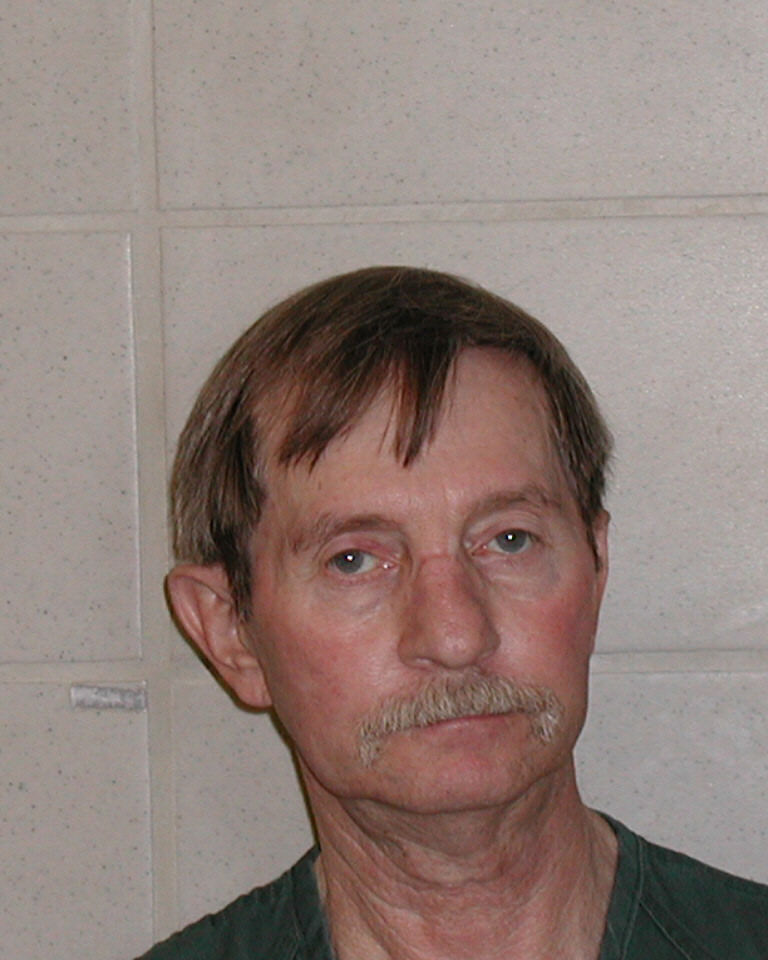face: (166, 272, 608, 810)
